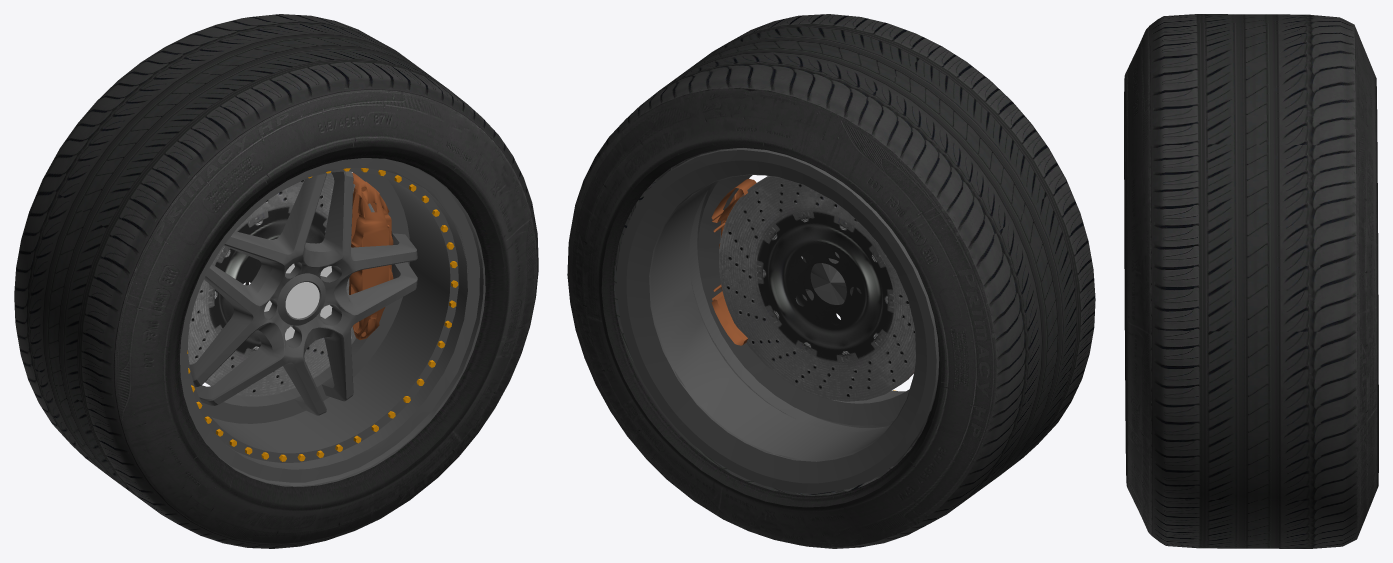
The model's file is Tyre_Type_4.fbx.
3 renders of one model, left to right at view 1: azimuth 30°, elevation 25°; view 2: azimuth 150°, elevation 25°; view 3: azimuth 270°, elevation 25°, orthographic. The views are drawn at different scales.
Parts seen in each view (by area): view 1: Rubber, Rim4, Rim, Disc, Caliper, Outer Screws; view 2: Rubber, Rim, Disc, Rim4, Caliper; view 3: Rubber.
Part boxes in pixels (box(x1,y1,x2,y2)): Rubber: box(14, 14, 538, 548); Rim4: box(187, 168, 458, 462); Rim: box(180, 158, 485, 486); Disc: box(188, 173, 374, 397); Caliper: box(349, 172, 393, 339); Outer Screws: box(187, 168, 458, 461); Rubber: box(567, 14, 1095, 548); Rim: box(617, 148, 939, 493); Disc: box(719, 176, 915, 401); Rim4: box(697, 175, 909, 428); Caliper: box(711, 178, 756, 345); Rubber: box(1124, 14, 1378, 548).
Bounding box in the file's own units: 55.47 × 55.36 × 26.42.
